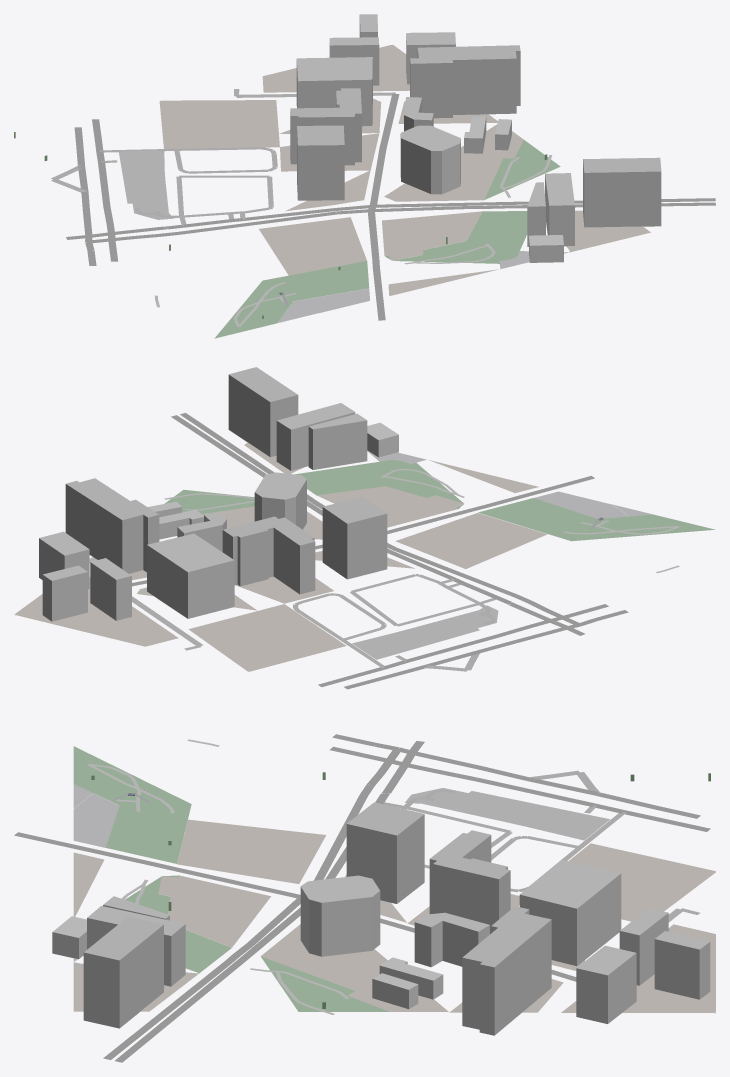
3 renders of one model, top to bottom at view 1: azimuth 30°, elevation 25°; view 2: azimuth 150°, elevation 25°; view 3: azimuth 270°, elevation 25°, orthographic. The views are drawn at different scales.
Size of the model in its own units: 603 by 60.25 by 546.
